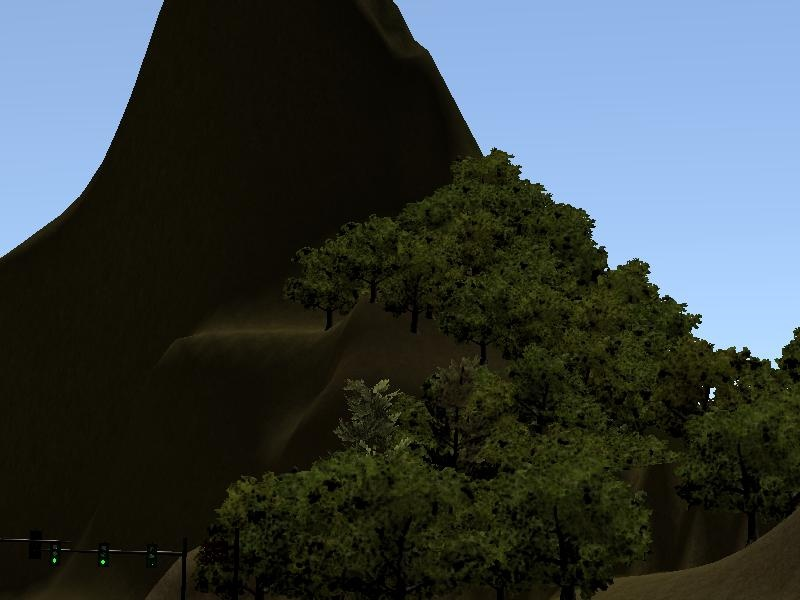GREEN: (45, 536, 63, 574), (95, 541, 110, 573)
